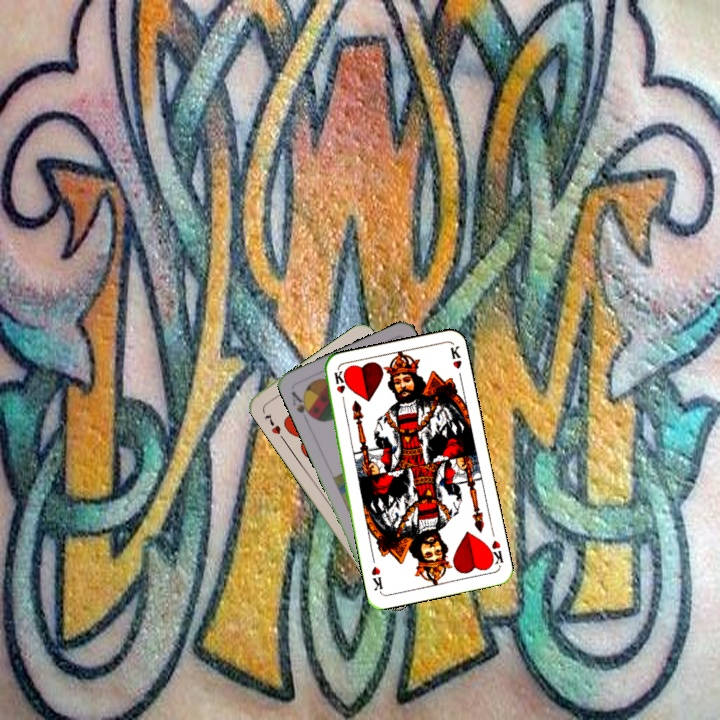H7: (260, 409, 283, 437)
HK: (330, 367, 348, 408), (483, 536, 506, 568)
SA: (287, 388, 316, 421)
